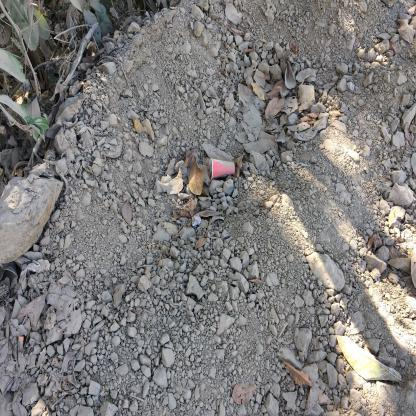karton: (209, 159, 236, 182)
